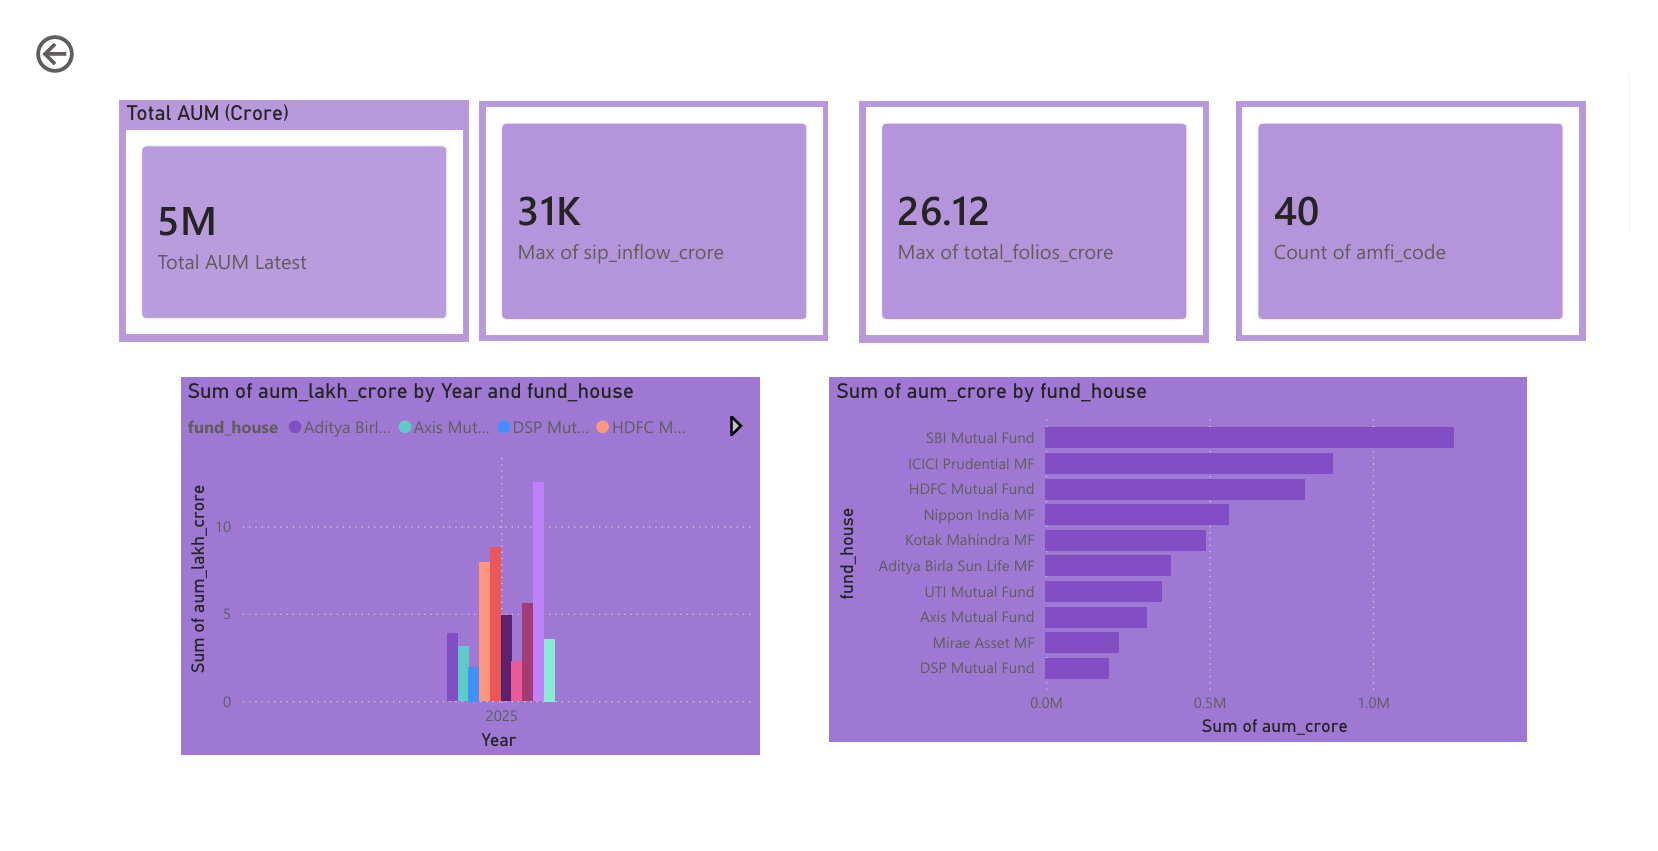

What the dashboard file says about the page in this screenshot:
{"tool":"powerbi","page":{"name":"Industry Overview","canvas":[1280,720],"ordinal":0},"visuals":[{"type":"cardVisual","title":"Total AUM (Crore)","fields":{"Data":["03_aum_by_fund_house_clean.Total AUM Latest"]},"box":[72.1,57.2,279.9,192.8],"z":0},{"type":"cardVisual","fields":{"Data":["Max(04_monthly_sip_inflows_clean.sip_inflow_crore)"]},"box":[359.5,57.6,279.9,192.1],"z":1000},{"type":"cardVisual","fields":{"Data":["Max(06_industry_folio_count_clean.total_folios_crore)"]},"box":[664.3,58.5,279.9,192.8],"z":2000},{"type":"cardVisual","fields":{"Data":["CountNonNull(01_fund_master_clean.amfi_code)"]},"box":[964.7,57.6,279.9,192.1],"z":3000},{"type":"actionButton","box":[0,0,100,40],"z":4000},{"type":"clusteredColumnChart","fields":{"Category":["03_aum_by_fund_house_clean.date.Variation.Date Hierarchy.Year"],"Y":["Sum(03_aum_by_fund_house_clean.aum_lakh_crore)"],"Series":["03_aum_by_fund_house_clean.fund_house"]},"box":[121.2,278.8,462.5,302.5],"z":5000},{"type":"clusteredBarChart","fields":{"Category":["03_aum_by_fund_house_clean.fund_house"],"Y":["Sum(03_aum_by_fund_house_clean.aum_crore)"]},"box":[640,278.8,557.5,292.5],"z":6000}]}

Visuals, with their boxes on the page's 1280x720 design canvas (x1, y1, x2, y2). These are canvas units, not pixel positions in the 1658x851 screenshot, which may show the page scaled, cropped or inside an application window:
"Total AUM (Crore)" cardVisual: {"x1": 72, "y1": 57, "x2": 352, "y2": 250}
cardVisual - Max(04_monthly_sip_inflows_clean.sip_inflow_crore): {"x1": 360, "y1": 58, "x2": 639, "y2": 250}
cardVisual - Max(06_industry_folio_count_clean.total_folios_crore): {"x1": 664, "y1": 58, "x2": 944, "y2": 251}
cardVisual - CountNonNull(01_fund_master_clean.amfi_code): {"x1": 965, "y1": 58, "x2": 1245, "y2": 250}
actionButton: {"x1": 0, "y1": 0, "x2": 100, "y2": 40}
clusteredColumnChart - 03_aum_by_fund_house_clean.date.Variation.Date Hierarchy.Year x Sum(03_aum_by_fund_house_clean.aum_lakh_crore): {"x1": 121, "y1": 279, "x2": 584, "y2": 581}
clusteredBarChart - 03_aum_by_fund_house_clean.fund_house x Sum(03_aum_by_fund_house_clean.aum_crore): {"x1": 640, "y1": 279, "x2": 1198, "y2": 571}
